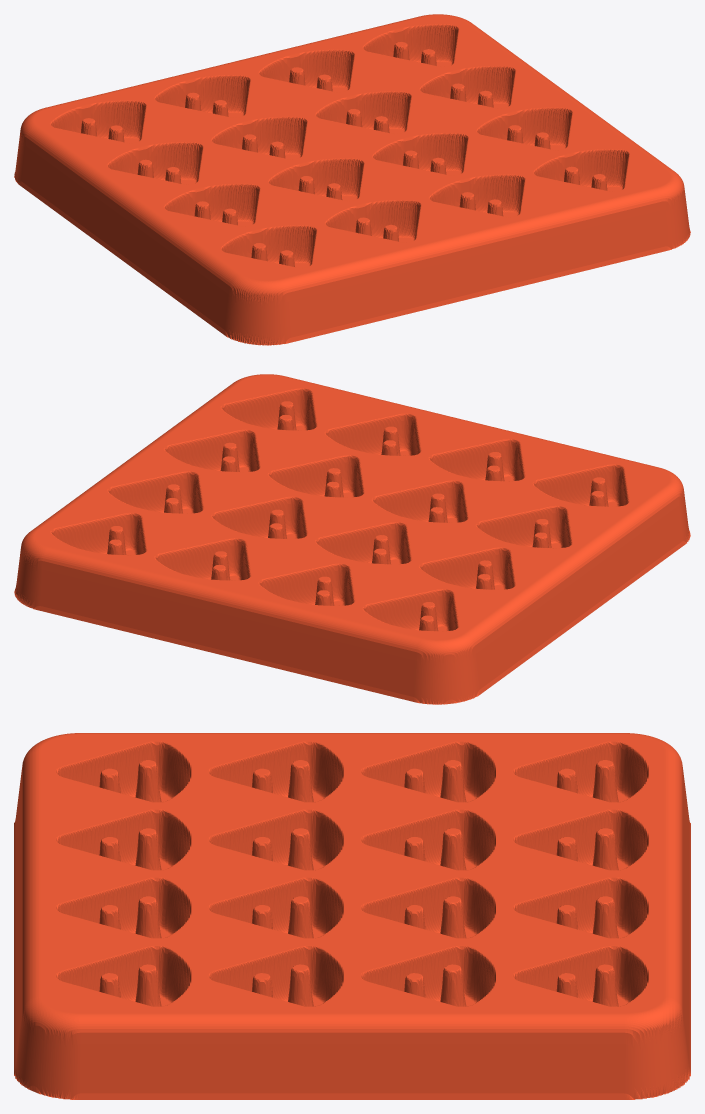
File: mold.glb
3 views of the same model, one above another, from view 1: azimuth 30°, elevation 25°; view 2: azimuth 150°, elevation 25°; view 3: azimuth 270°, elevation 25° (orthographic). The views are drawn at different scales.
Visible parts, largest first — view 1: geometry_0; view 2: geometry_0; view 3: geometry_0.
Boxes of the visible parts, left/top/right/bottom form: geometry_0: left=14, top=14, right=690, bottom=345; geometry_0: left=14, top=374, right=690, bottom=704; geometry_0: left=14, top=733, right=690, bottom=1099.
Bounding box in the file's own units: 0.0972 × 0.0114 × 0.0924.
